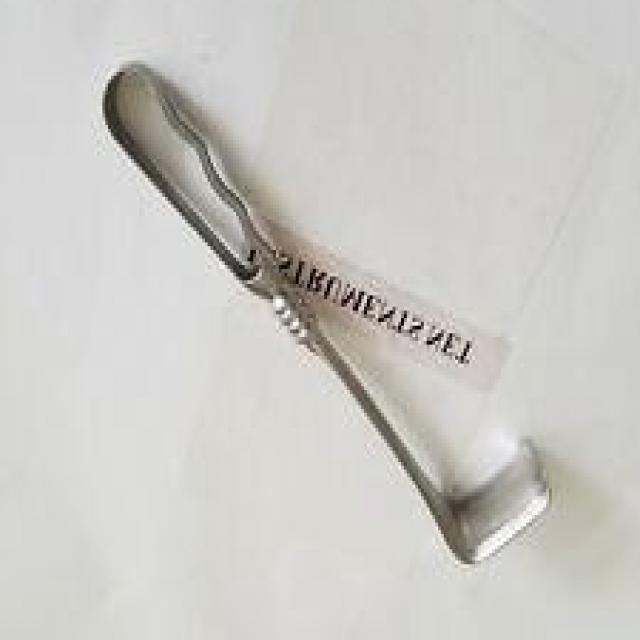Richardson: (96, 61, 554, 572)
